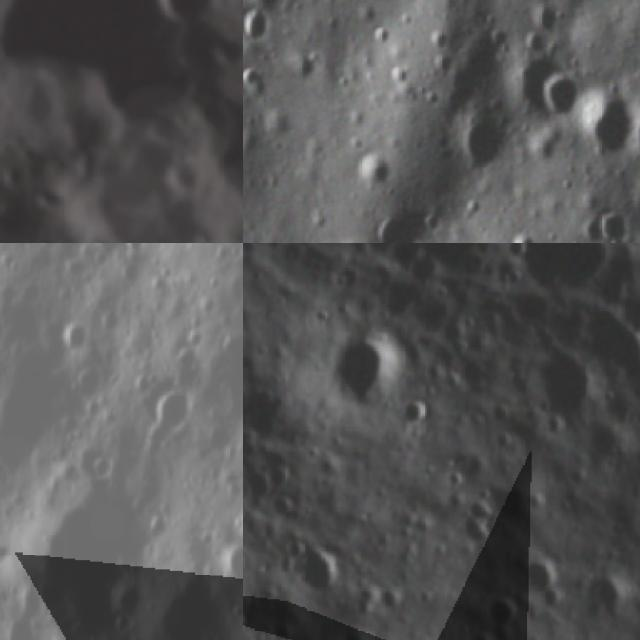crater: (19, 458, 146, 640), (64, 123, 207, 243), (328, 328, 418, 414), (511, 243, 625, 295), (526, 342, 600, 422), (286, 539, 348, 598), (455, 486, 504, 554), (582, 94, 632, 158), (576, 411, 632, 467), (578, 564, 632, 616), (459, 114, 506, 168), (105, 573, 148, 629), (538, 73, 584, 125), (161, 151, 207, 200), (140, 0, 223, 27), (202, 20, 243, 73), (51, 308, 96, 355), (514, 556, 566, 596), (405, 247, 448, 291), (355, 145, 396, 190), (482, 591, 523, 629), (221, 539, 243, 602), (623, 102, 640, 171), (403, 396, 432, 435), (243, 9, 270, 50), (594, 212, 629, 243), (340, 626, 382, 640), (243, 0, 270, 9)
